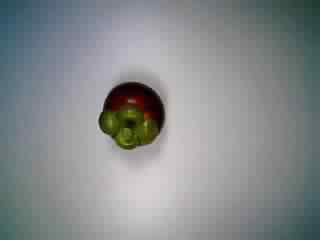mangosteen: (95, 79, 167, 151)
